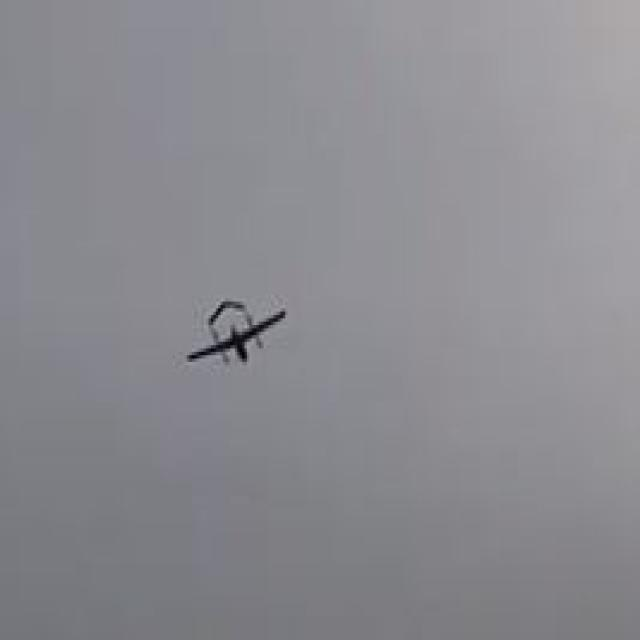iha: (217, 332, 256, 334)
